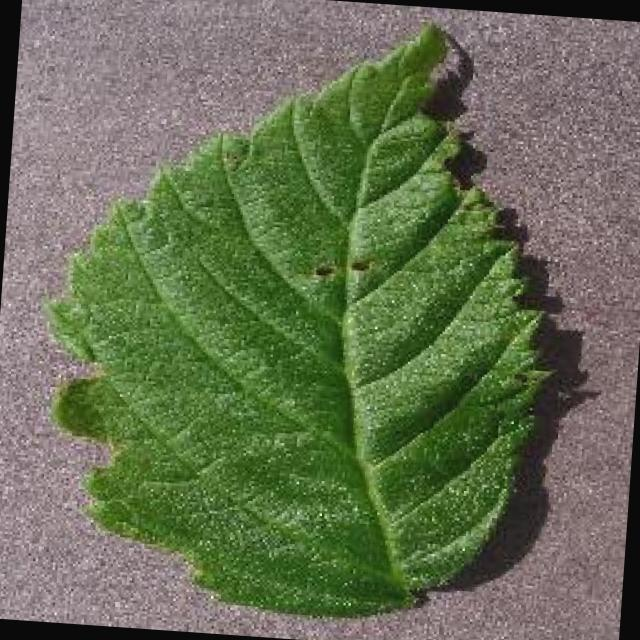healthy: (47, 27, 547, 611)
